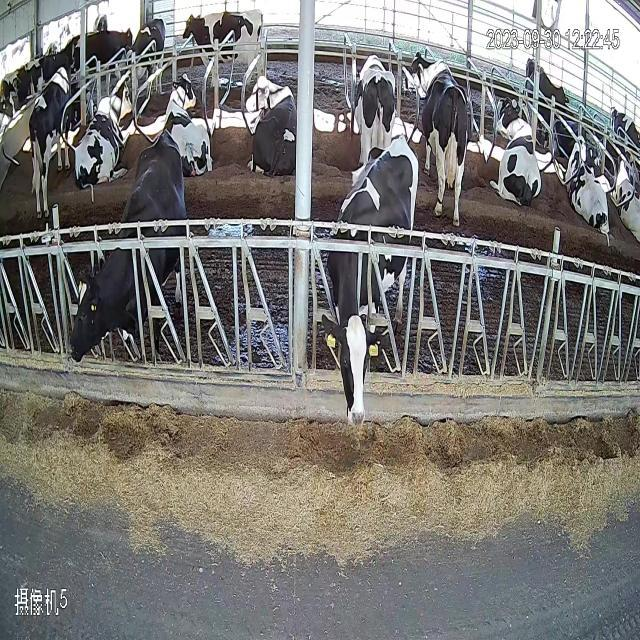feeding: (77, 118, 209, 388), (332, 134, 434, 470)
lying down: (237, 66, 303, 215), (76, 72, 138, 191), (556, 128, 615, 248), (162, 64, 216, 194), (497, 95, 541, 214), (612, 155, 640, 247)
standing: (400, 39, 468, 203), (184, 6, 282, 84), (350, 46, 400, 146), (32, 59, 64, 199), (130, 15, 173, 90), (69, 24, 131, 70)
